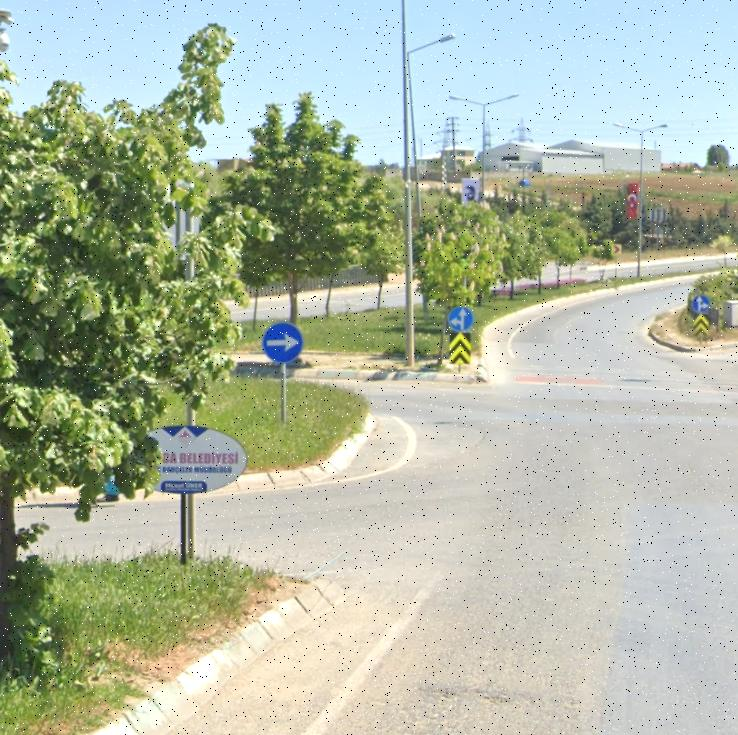turnright: (264, 322, 301, 363)
